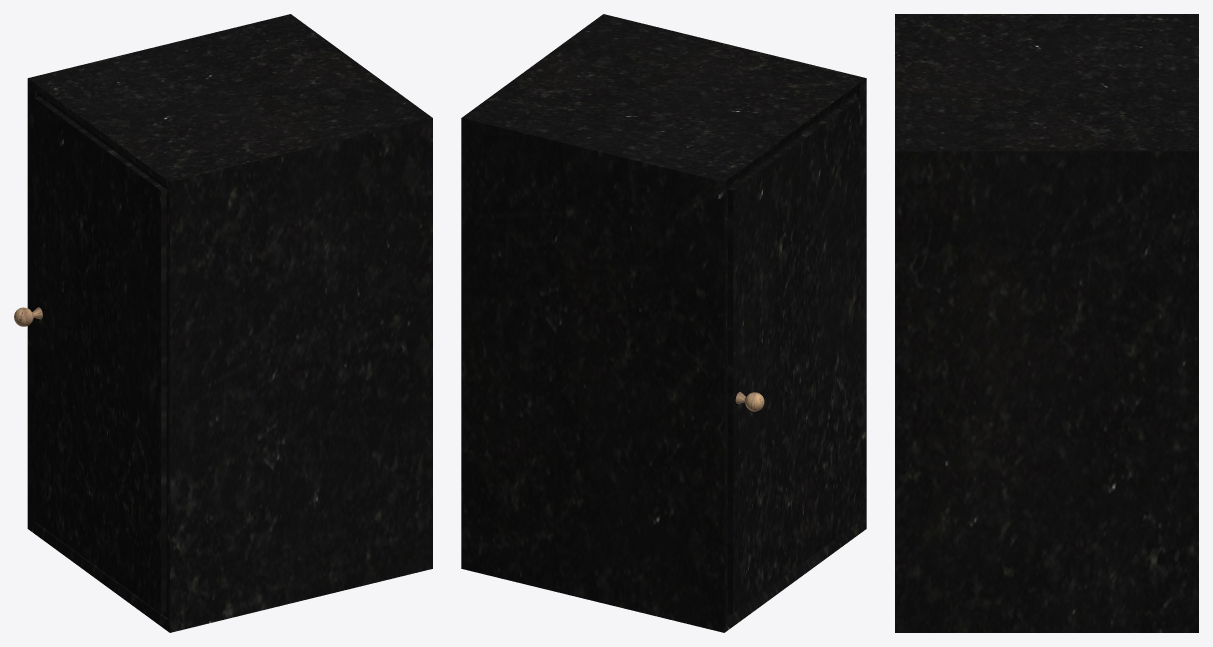
The model's file is Refrigerator.fbx.
3 renders of one model, left to right at view 1: azimuth 30°, elevation 25°; view 2: azimuth 150°, elevation 25°; view 3: azimuth 270°, elevation 25°, orthographic. The views are drawn at different scales.
Visible parts, largest first — view 1: Refrigerator; view 2: Refrigerator; view 3: Refrigerator.
Part boxes in pixels (x1,y1,x2,y2): Refrigerator: [27, 14, 432, 632]; Refrigerator: [461, 14, 866, 632]; Refrigerator: [895, 14, 1198, 632].
Size of the model in its own units: 802 by 1197 by 684.
